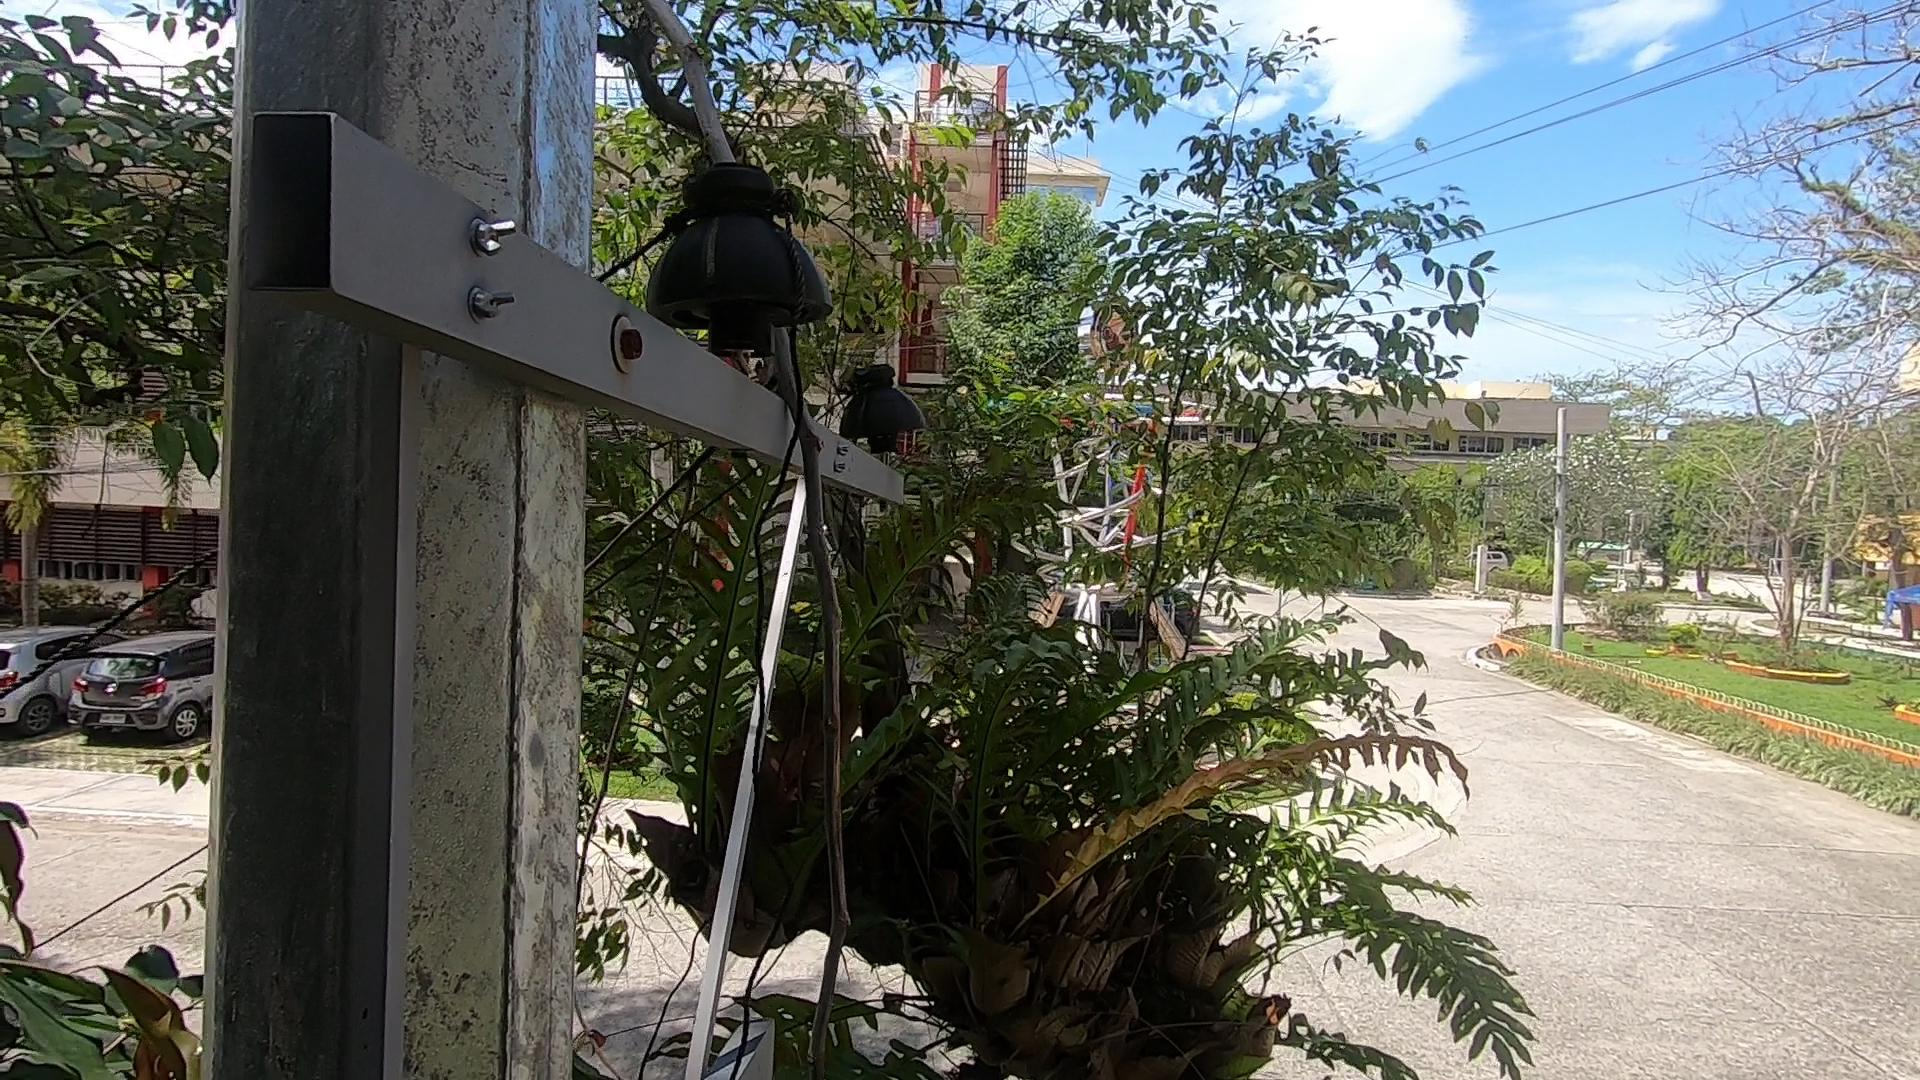tree branch: (613, 1, 956, 1062)
